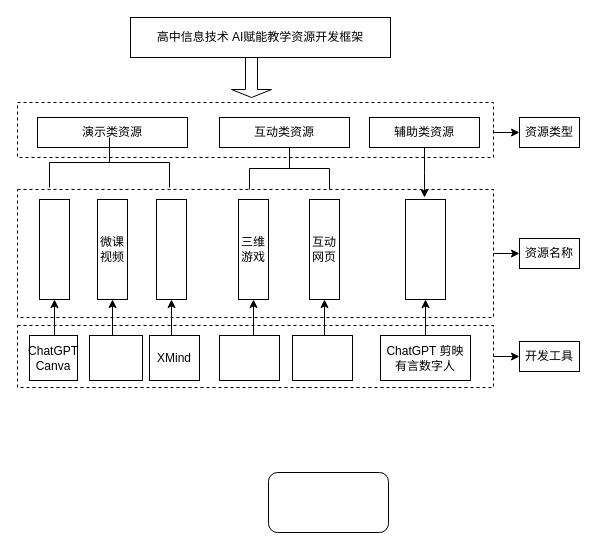
This 597x550 diagram has some shape labels left out. Each missing label, with the centre of its shape:
HTML5 JavaScript: point (322, 357)
PPT课件: point (54, 249)
UE5 Blender: point (249, 357)
剪映, 有言数字人: point (115, 357)
思维导图: point (171, 249)
错题讲解片段: point (425, 249)
